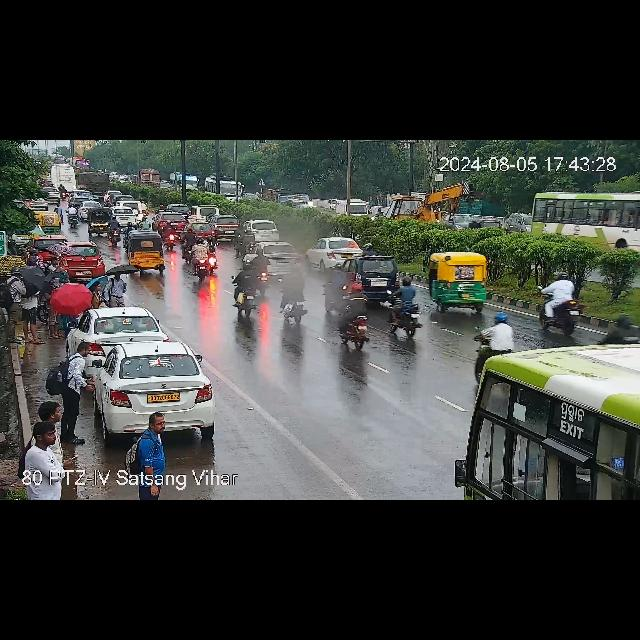bus: (458, 334, 638, 501), (531, 192, 640, 253), (204, 180, 243, 200), (50, 162, 74, 192), (169, 173, 199, 190), (72, 157, 92, 170)
car: (98, 348, 214, 432), (71, 306, 169, 348), (429, 252, 491, 312), (342, 255, 402, 302), (48, 242, 106, 282), (305, 238, 365, 272), (124, 230, 166, 272), (242, 241, 300, 269), (246, 219, 280, 241), (186, 206, 220, 228), (213, 216, 241, 240), (34, 210, 60, 233), (88, 208, 112, 232), (442, 213, 471, 231), (158, 213, 186, 231), (188, 220, 216, 238), (506, 213, 530, 234), (117, 202, 141, 220), (39, 187, 61, 205), (470, 220, 502, 232), (115, 206, 136, 222), (80, 201, 102, 215), (167, 204, 189, 216)
motorcycle: (473, 314, 517, 382), (336, 284, 370, 352), (386, 278, 418, 340), (231, 264, 261, 324), (280, 267, 310, 325), (541, 300, 583, 336), (190, 238, 208, 282), (252, 248, 268, 290), (202, 238, 218, 274), (182, 228, 194, 264), (108, 215, 120, 247), (66, 204, 80, 228), (235, 223, 245, 250), (139, 216, 151, 232), (125, 221, 135, 235), (376, 207, 384, 217)
person: (48, 341, 104, 445), (124, 412, 170, 500), (20, 424, 72, 500), (538, 274, 578, 332), (2, 265, 24, 343), (21, 270, 43, 346), (106, 271, 128, 305), (86, 280, 104, 308)
truck: (76, 172, 110, 196), (333, 199, 372, 217), (262, 188, 294, 205), (130, 170, 160, 187)
